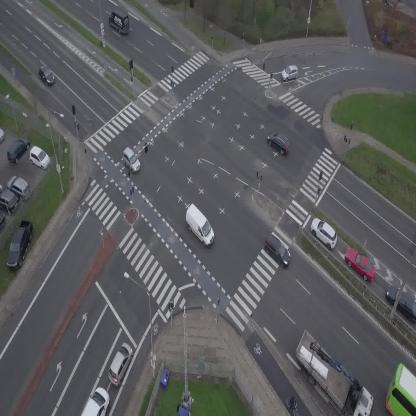bicycle: (285, 396, 300, 416)
car: (340, 242, 382, 285), (103, 340, 137, 388), (305, 213, 343, 251), (261, 234, 296, 269), (263, 126, 295, 157), (81, 386, 110, 416), (117, 146, 145, 175), (35, 64, 57, 88), (279, 64, 300, 82)
lorry: (280, 329, 382, 416), (177, 203, 221, 248), (104, 6, 136, 37)
